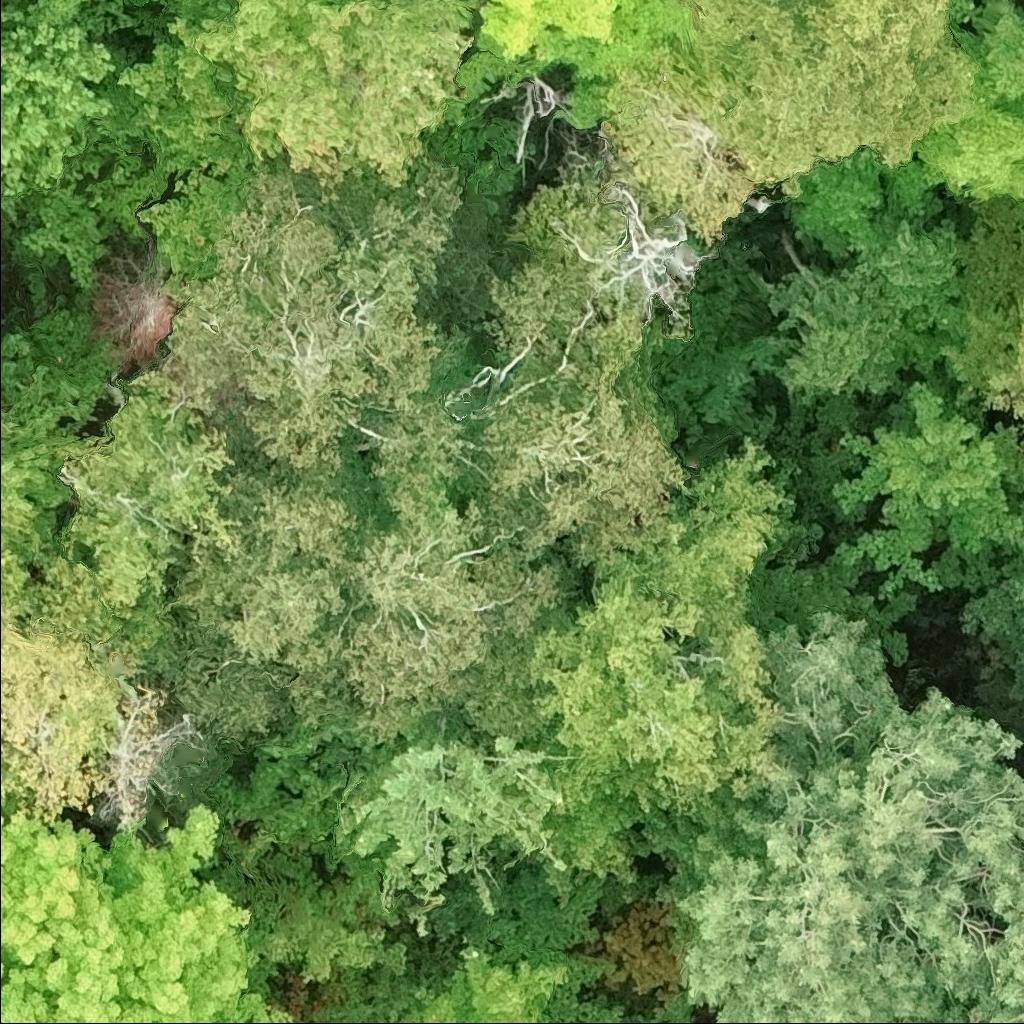crown: (653, 605, 1023, 1023), (169, 461, 587, 754), (161, 155, 475, 492), (531, 442, 789, 818), (601, 0, 985, 238), (444, 255, 694, 569), (113, 0, 485, 202), (0, 801, 300, 1023), (314, 728, 573, 938), (53, 361, 252, 623), (832, 379, 1023, 597), (446, 0, 703, 130), (0, 610, 130, 820), (905, 0, 1023, 203), (0, 0, 118, 201), (376, 943, 627, 1023), (11, 180, 110, 287), (935, 921, 1023, 1023), (986, 271, 1023, 427), (967, 653, 1023, 737), (0, 527, 39, 621), (9, 0, 99, 27), (148, 0, 233, 21), (0, 796, 18, 816), (1018, 750, 1023, 763)
